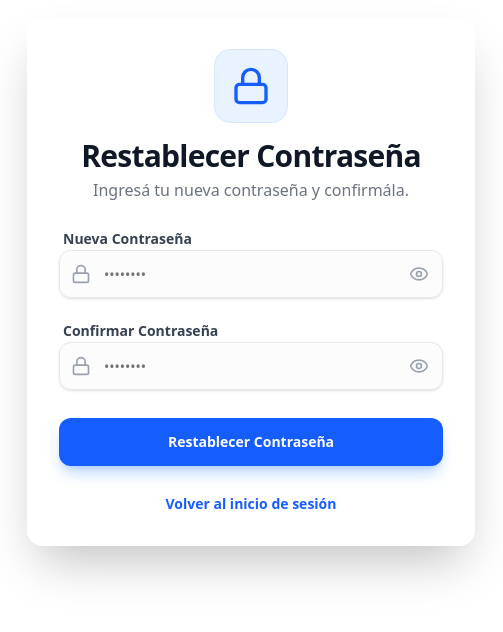
Password Reset Confirm Page › displays error message if password reset fails
In the password field labelled "Nueva Contraseña": (251, 274) [59, 250, 443, 298], type "P12345678#"
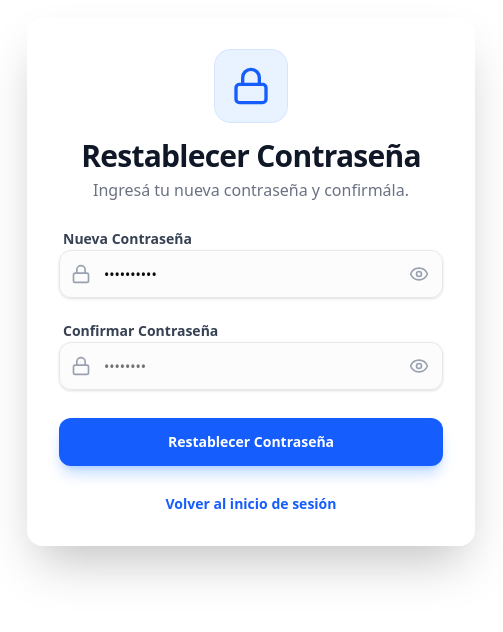
In the password field labelled "Confirmar Contraseña": (251, 366) [59, 342, 443, 390], type "P12345678#"
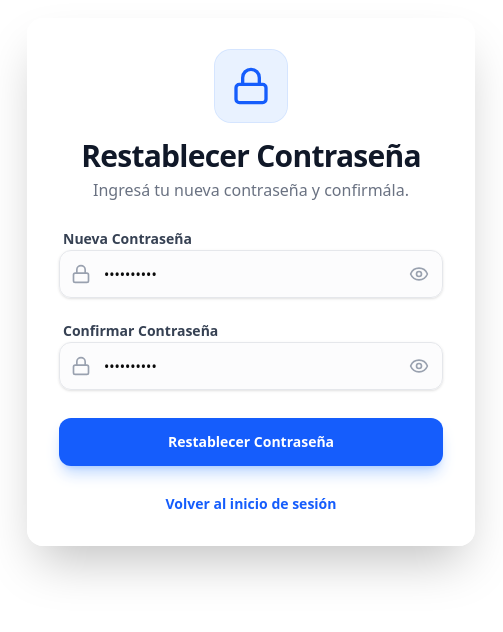
Click the button "Restablecer Contraseña": (251, 442) [59, 418, 443, 466]
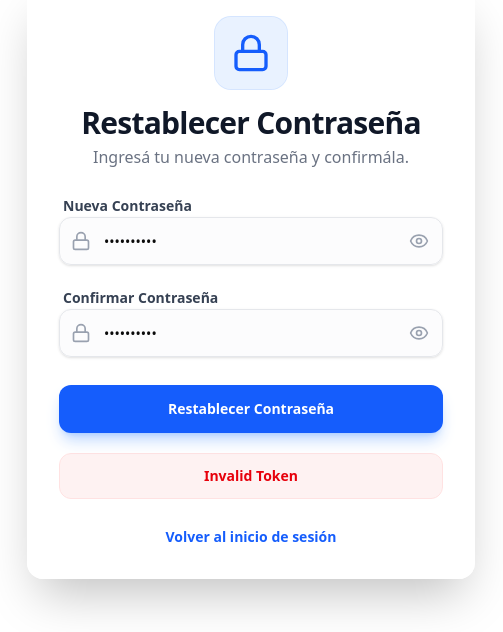
Result: the text "Invalid Token" is shown at [204, 466, 298, 485]
